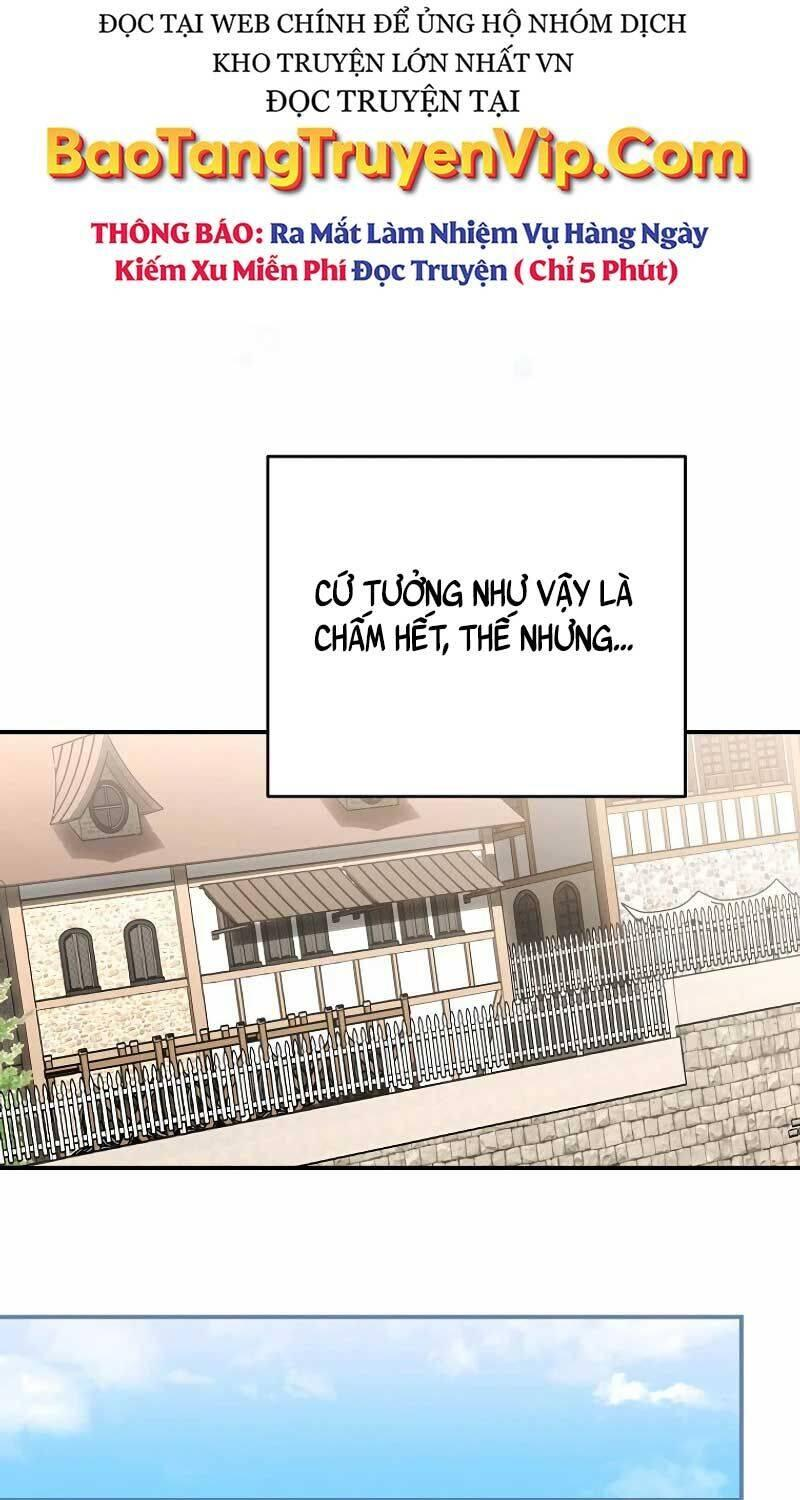quangcao: (36, 8, 762, 300)
